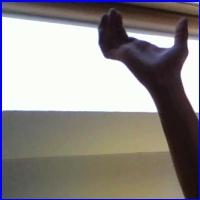space: (90, 8, 194, 82)
